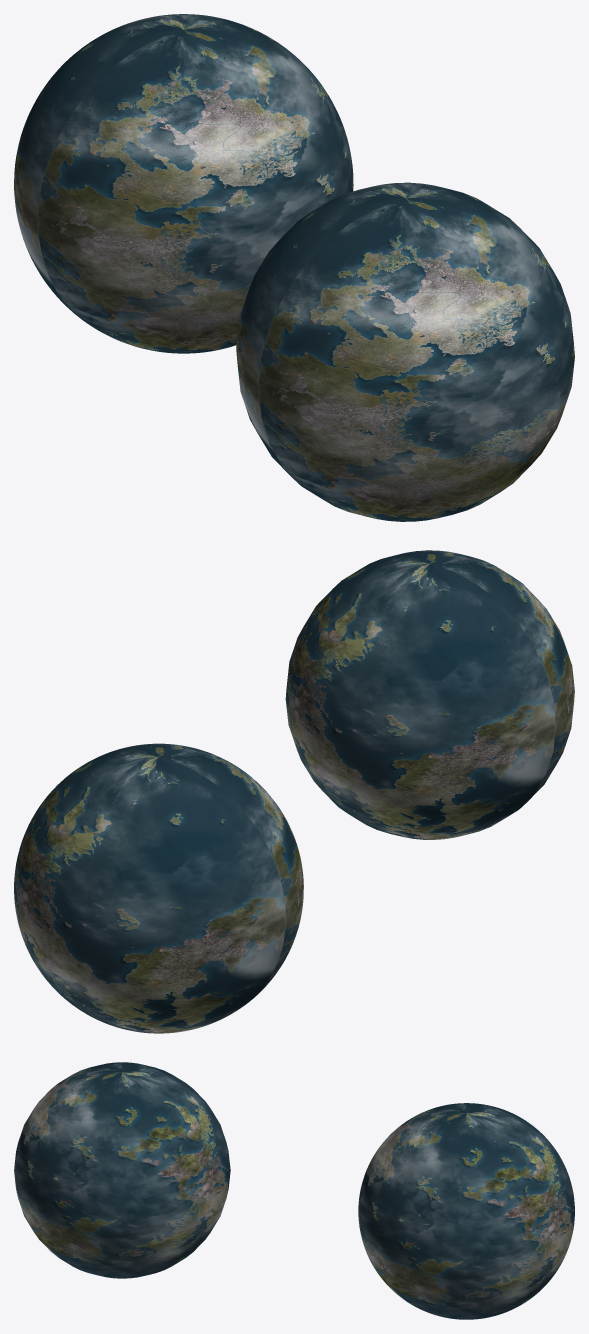
The model's file is Zemla.fbx.
3 views of the same model, one above another, from view 1: azimuth 30°, elevation 25°; view 2: azimuth 150°, elevation 25°; view 3: azimuth 270°, elevation 25° (orthographic). The views are drawn at different scales.
Parts seen in each view (by area): view 1: Sphere, Sphere.001; view 2: Sphere.001, Sphere; view 3: Sphere.001, Sphere.
Boxes of the visible parts, x1,y1,x2,y2 form: Sphere: (236,182,574,521); Sphere.001: (14,14,353,353); Sphere.001: (14,743,303,1033); Sphere: (285,550,574,839); Sphere.001: (358,1103,574,1319); Sphere: (14,1062,230,1278).
Size of the model in its own units: 233 by 226 by 518.
